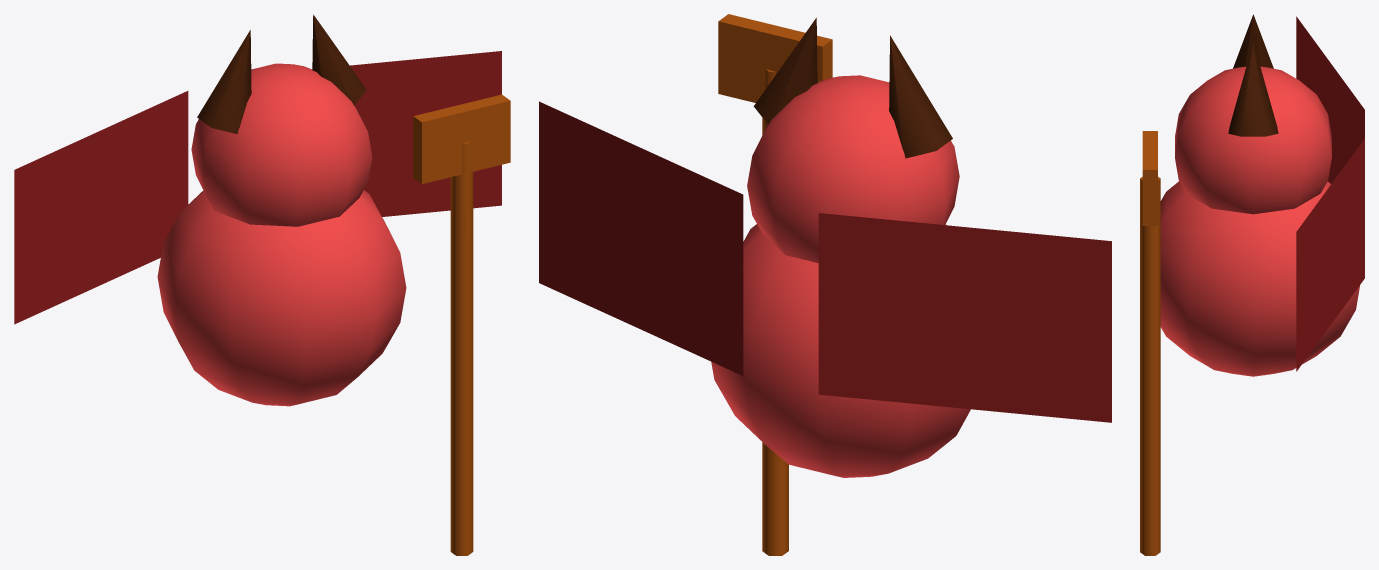
File: pet_imp_satan.glb
3 views of the same model, side by side, from view 1: azimuth 30°, elevation 25°; view 2: azimuth 150°, elevation 25°; view 3: azimuth 270°, elevation 25° (orthographic). The views are drawn at different scales.
Parts seen in each view (by area): view 1: PET_IMP_SATAN; view 2: PET_IMP_SATAN; view 3: PET_IMP_SATAN.
Part boxes in pixels (x1,y1,x2,y2): PET_IMP_SATAN: (14, 14, 510, 555); PET_IMP_SATAN: (539, 14, 1111, 555); PET_IMP_SATAN: (1140, 14, 1364, 555).
Size of the model in its own units: 0.9899 by 1.01 by 0.4365.
